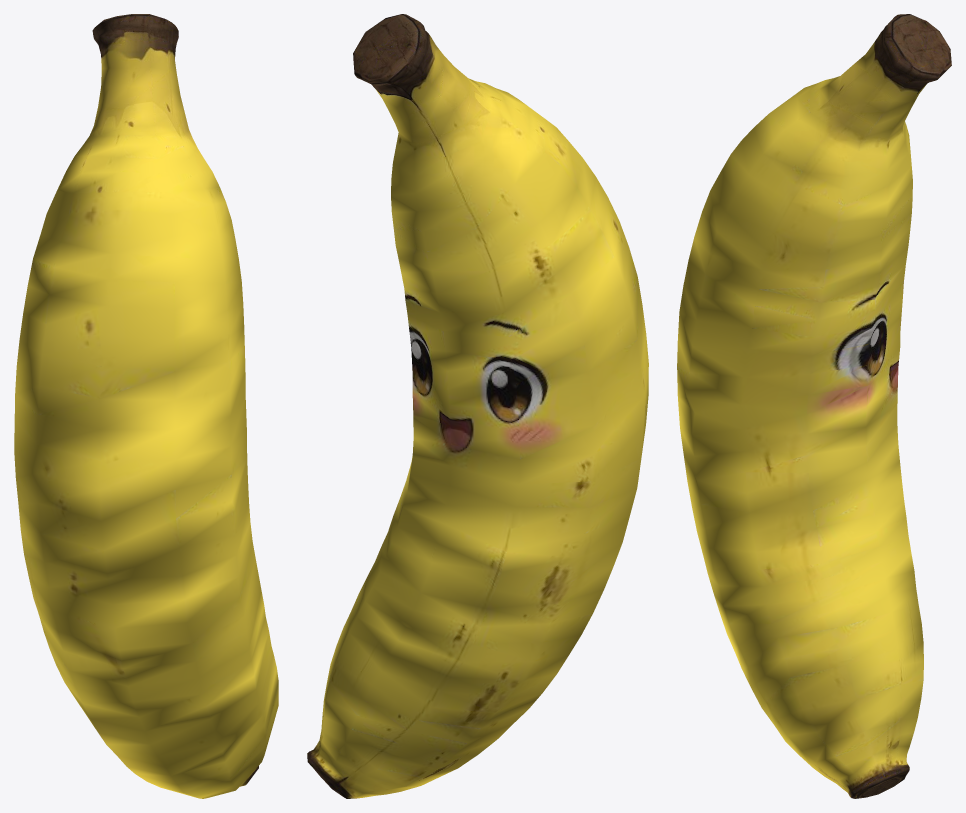
Rendered from banana_buddy.glb.
The picture shows the model from 3 angles, left to right: view 1: azimuth 30°, elevation 25°; view 2: azimuth 150°, elevation 25°; view 3: azimuth 270°, elevation 25°; orthographic projection. The views are drawn at different scales.
Parts seen in each view (by area): view 1: BananaBuddy; view 2: BananaBuddy; view 3: BananaBuddy.
Part boxes in pixels (bbox=[...]): BananaBuddy: bbox=[14, 14, 278, 798]; BananaBuddy: bbox=[307, 14, 648, 798]; BananaBuddy: bbox=[677, 14, 951, 798].
Bounding box in the file's own units: 0.6915 × 1.9 × 0.6363.
1 material, 1 textured.
